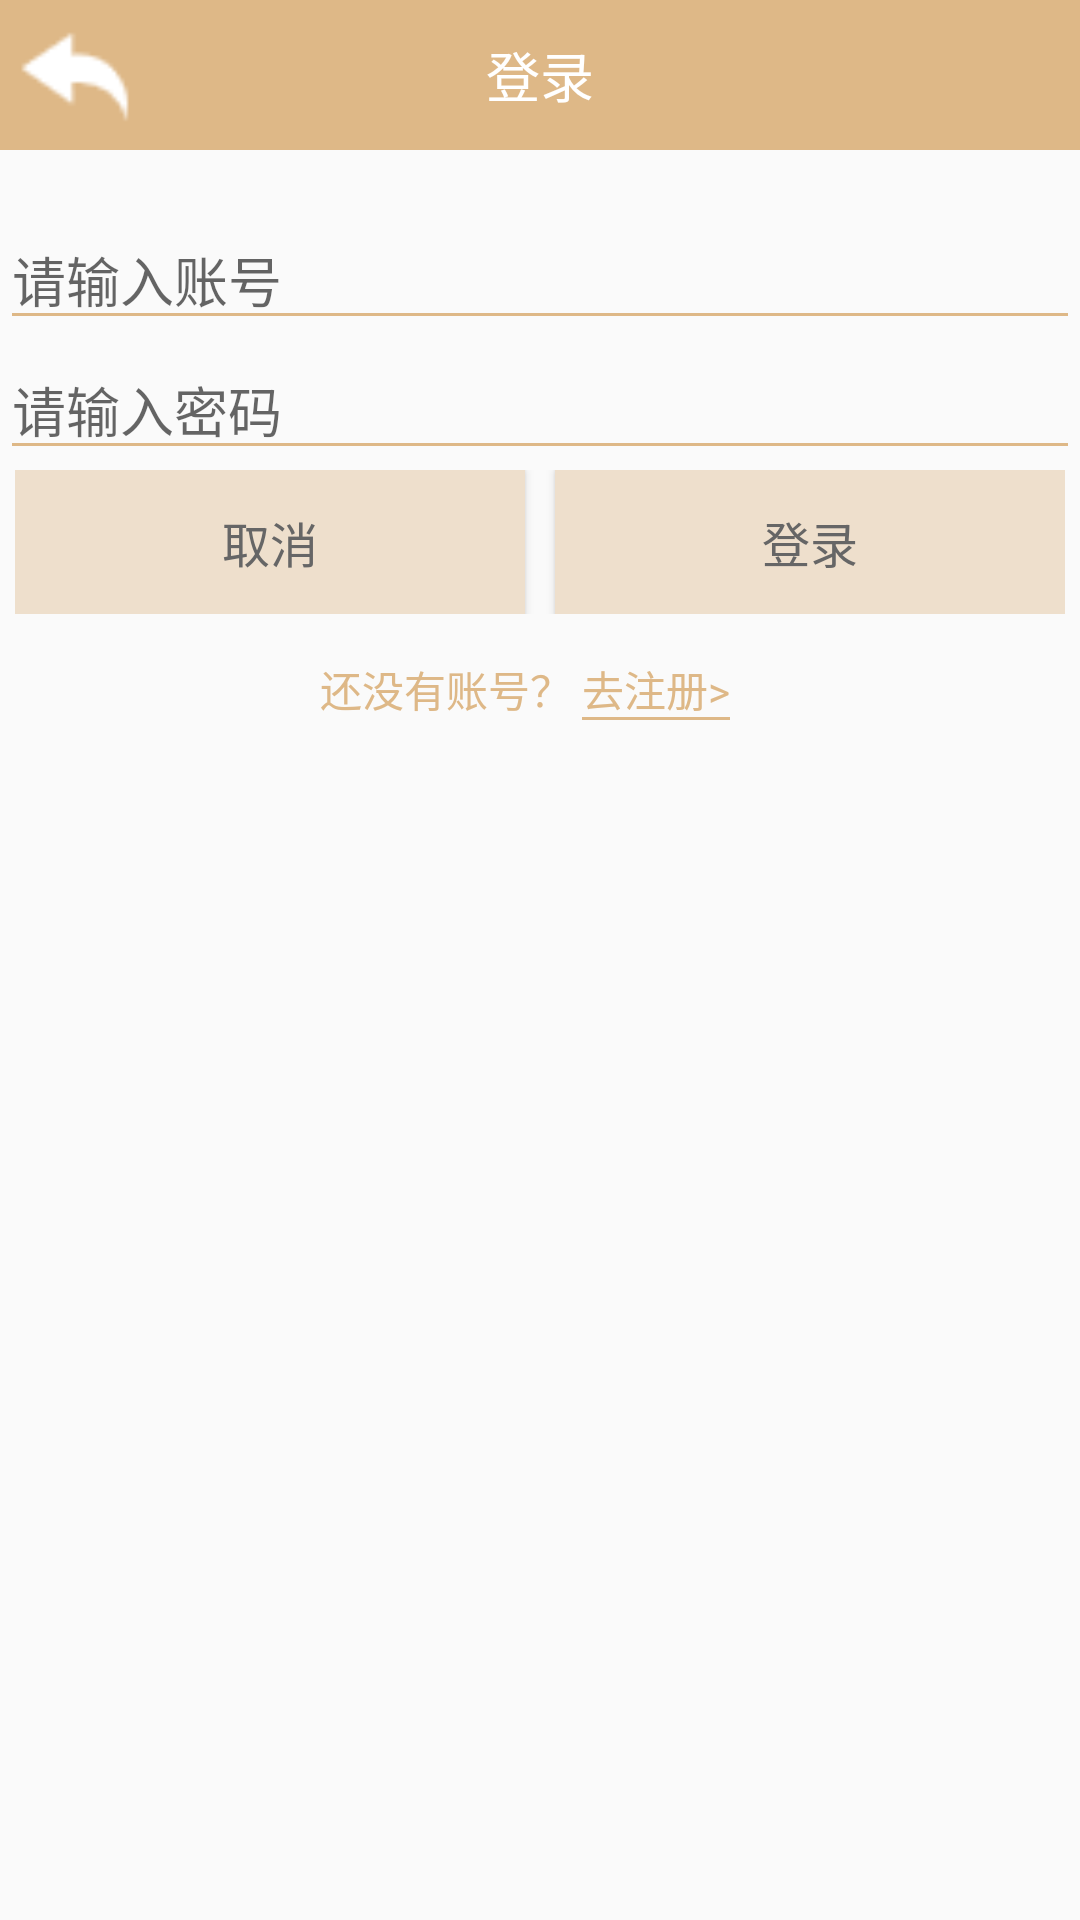

Icons on this 1080px×1920px Android screen, each with the point to tap as [x,y]:
back: [75,76]
